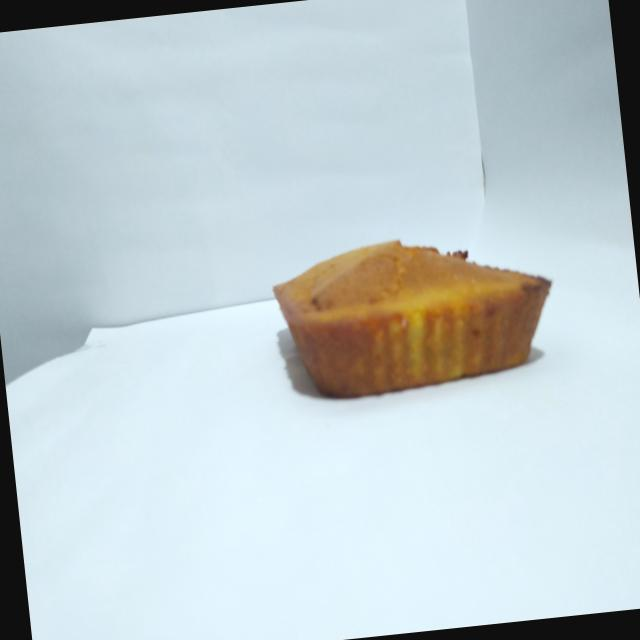Sopa: (256, 203, 572, 415)
